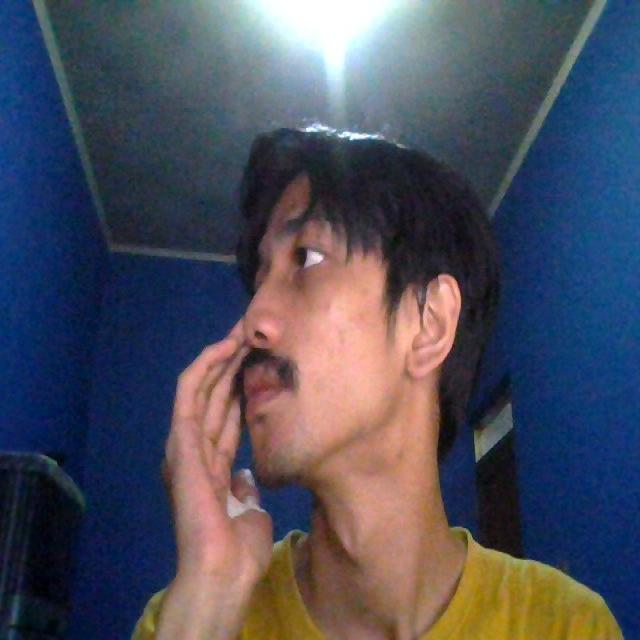Melihat kekanan: (202, 155, 532, 485)
movement: (146, 290, 284, 608)
